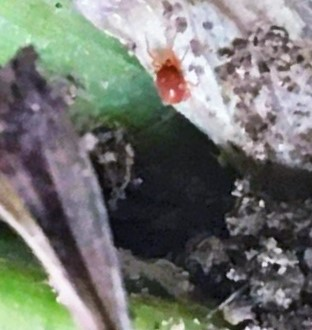Wheat Red Spider: (137, 29, 203, 116)
